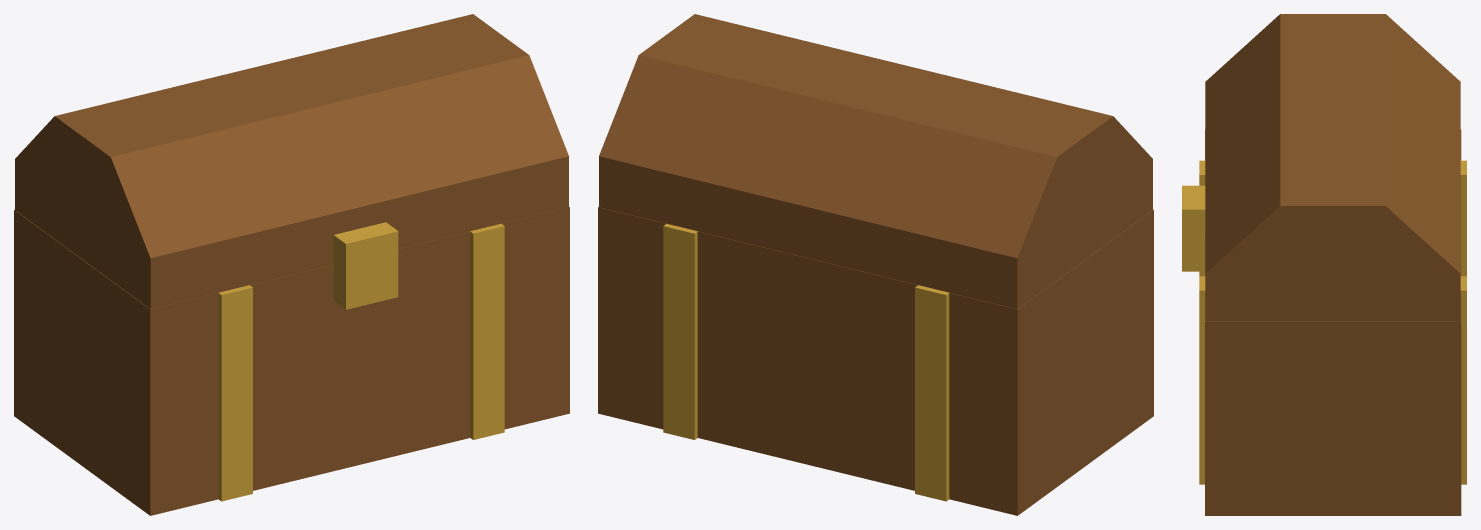
Rendered from chest.glb.
3 views of the same model, side by side, from view 1: azimuth 30°, elevation 25°; view 2: azimuth 150°, elevation 25°; view 3: azimuth 270°, elevation 25° (orthographic). The views are drawn at different scales.
Visible parts, largest first — view 1: Chest; view 2: Chest; view 3: Chest.
Part boxes in pixels (bbox=[...]): Chest: bbox=[14, 14, 569, 515]; Chest: bbox=[598, 14, 1153, 515]; Chest: bbox=[1182, 14, 1466, 515].
Size of the model in its own units: 0.8 by 0.6 by 0.5.
